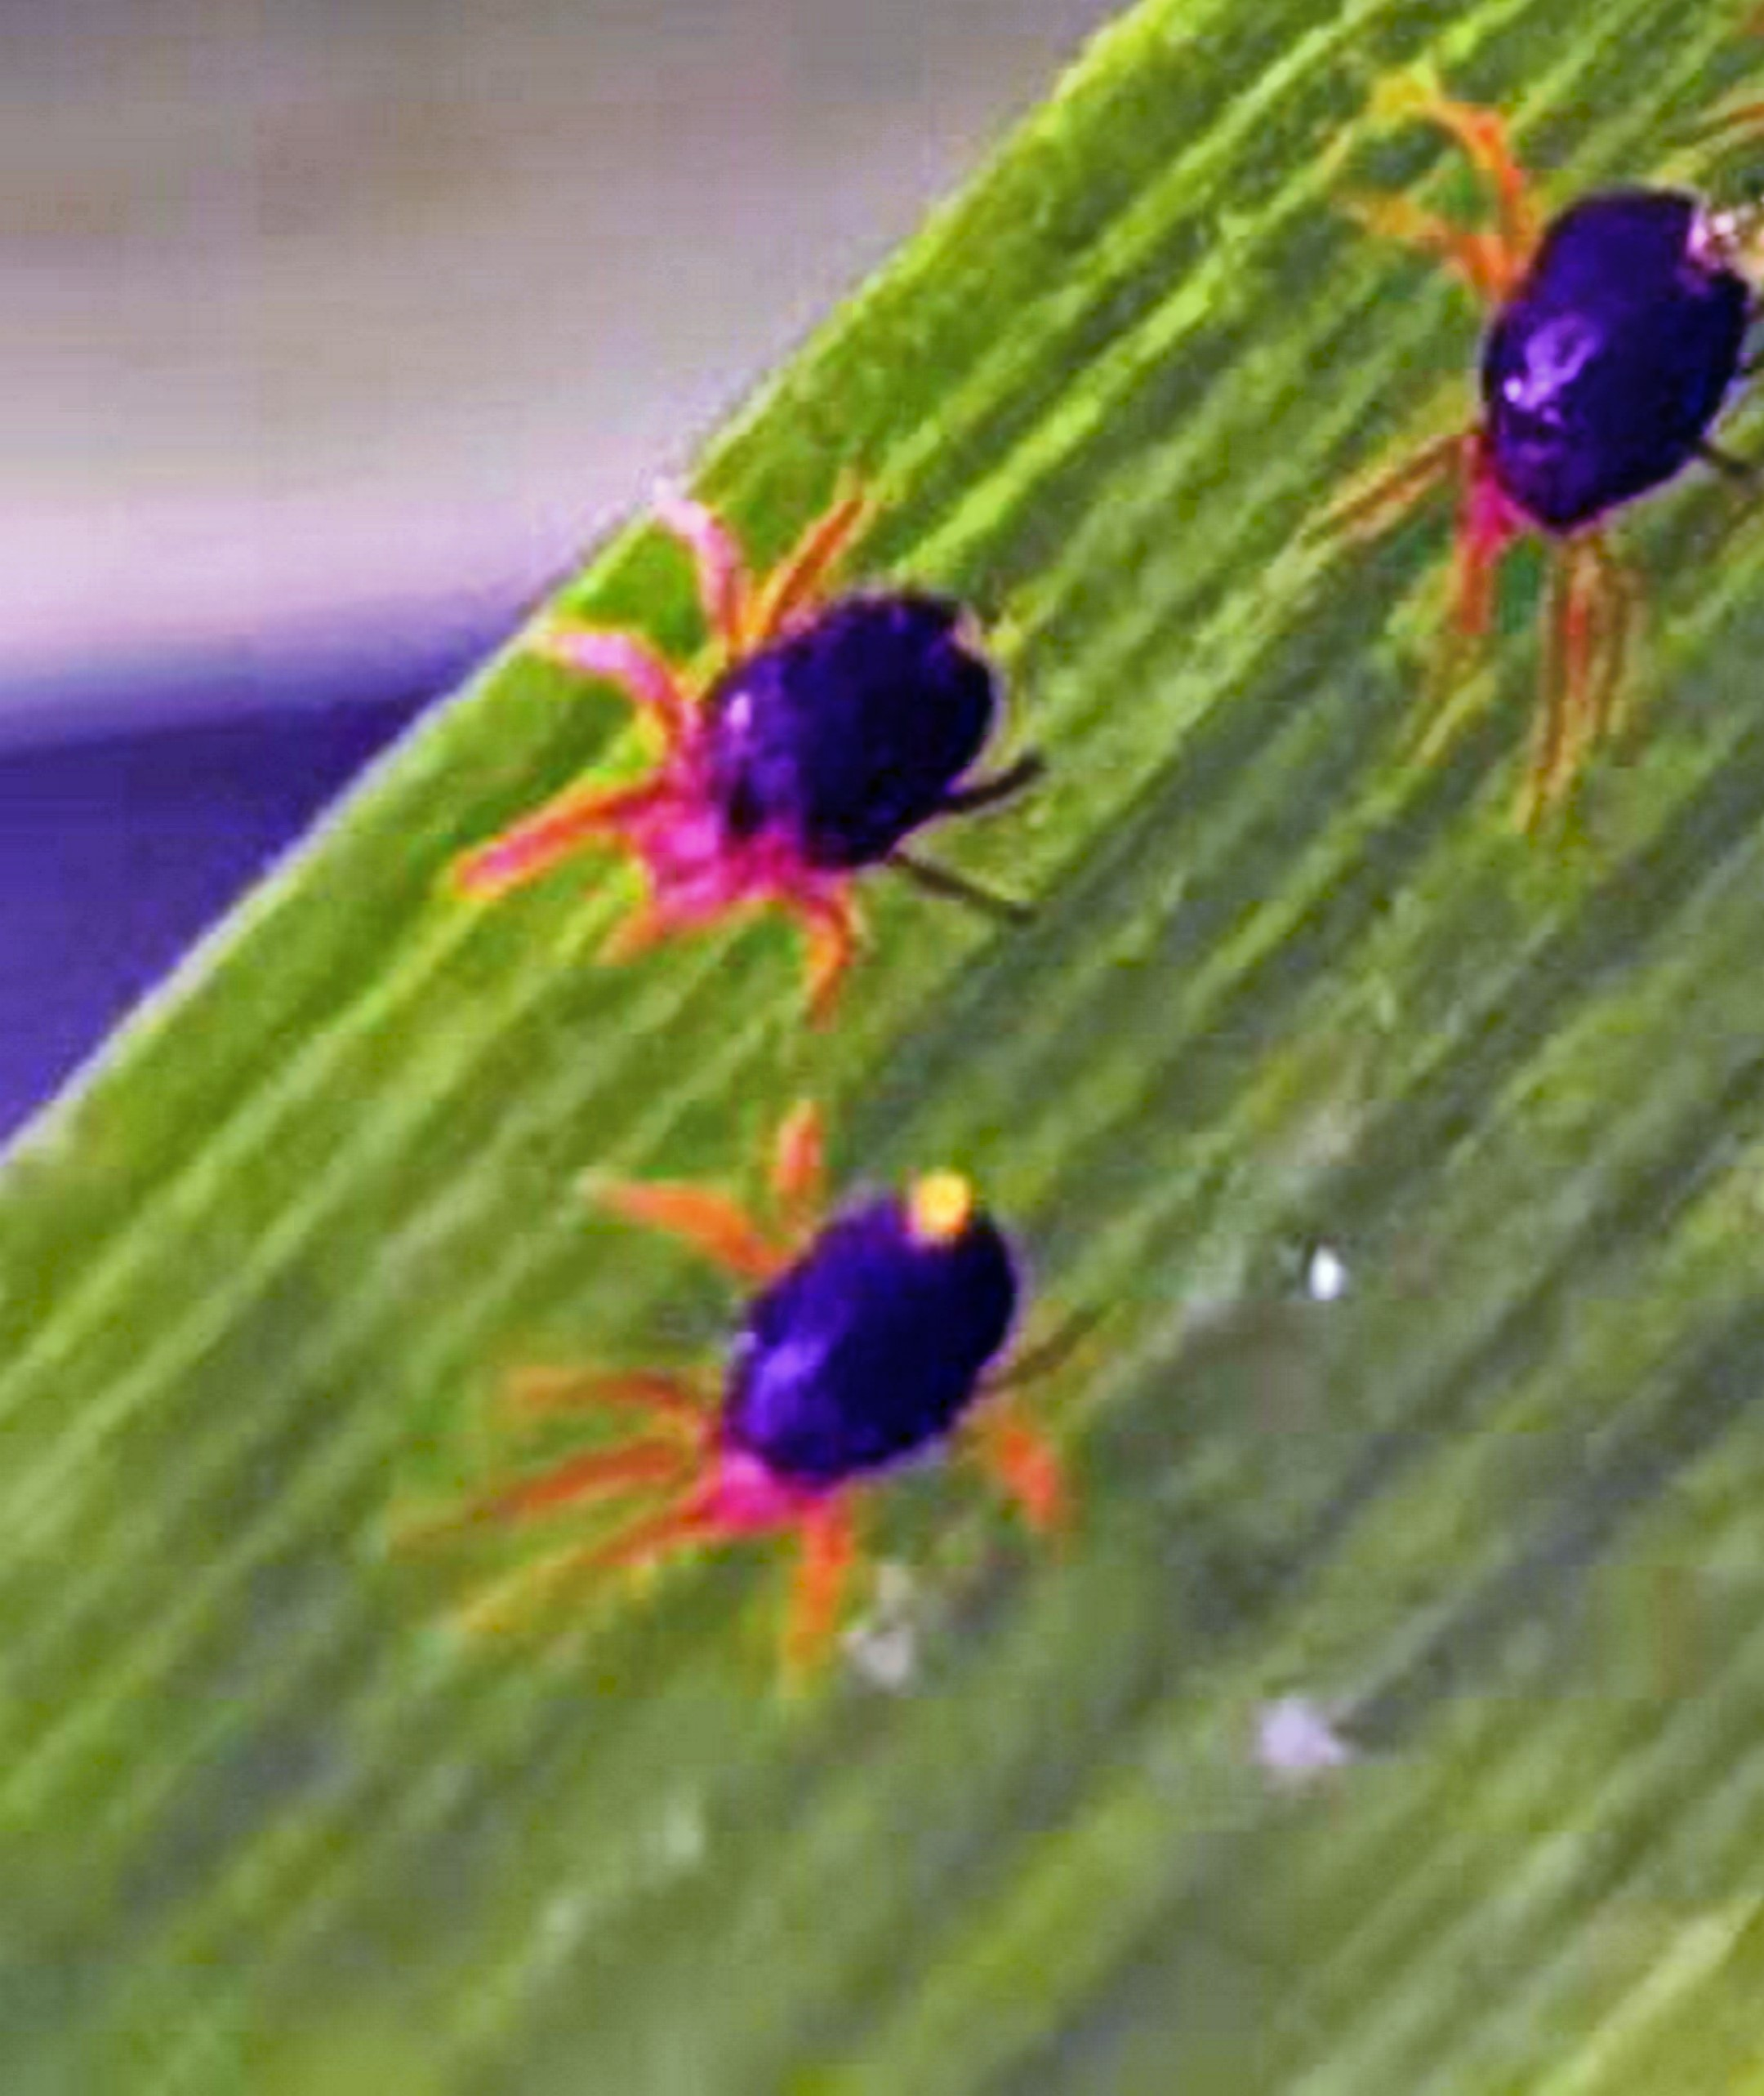Wheat Red Spider: (418, 413, 1127, 1074)
